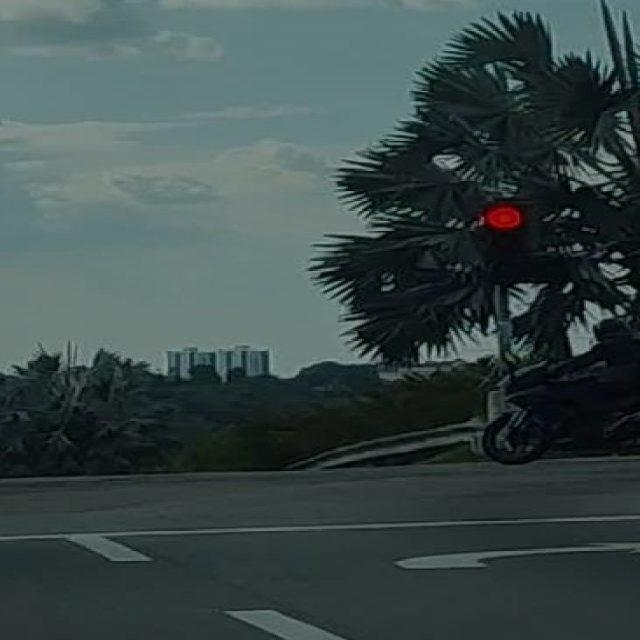Red: (484, 204, 528, 282)
